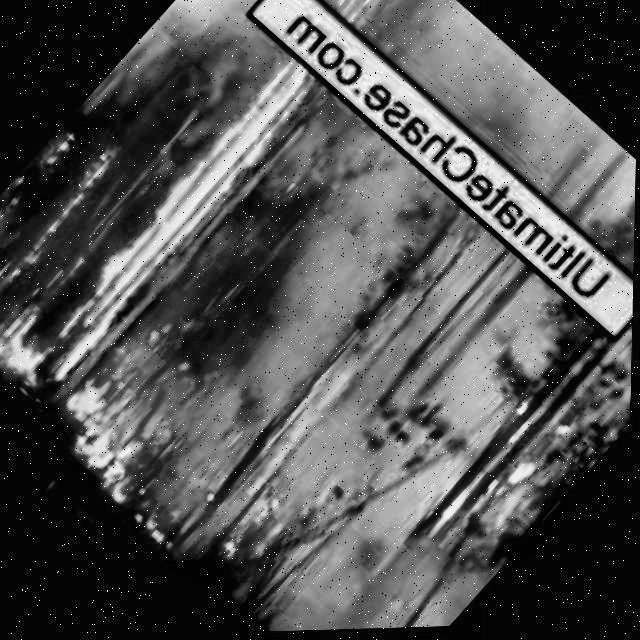Fire: (0, 44, 332, 417), (47, 367, 181, 498)
Smoke: (0, 75, 638, 640), (225, 0, 640, 364)
